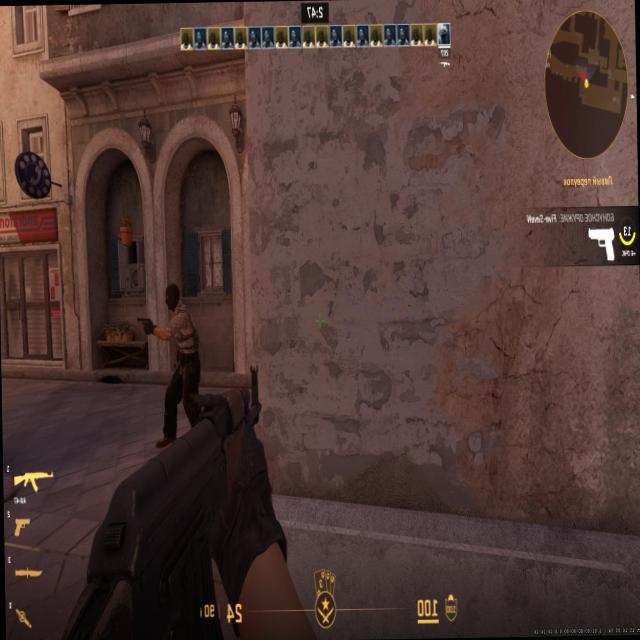T: (164, 283, 194, 414)
T_heat: (168, 288, 178, 308)
